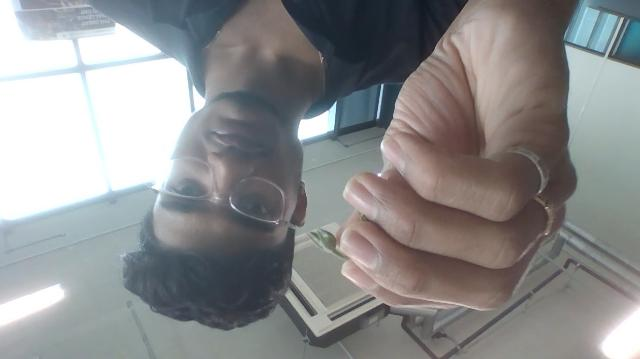Fruit Bud: (310, 226, 349, 261)
